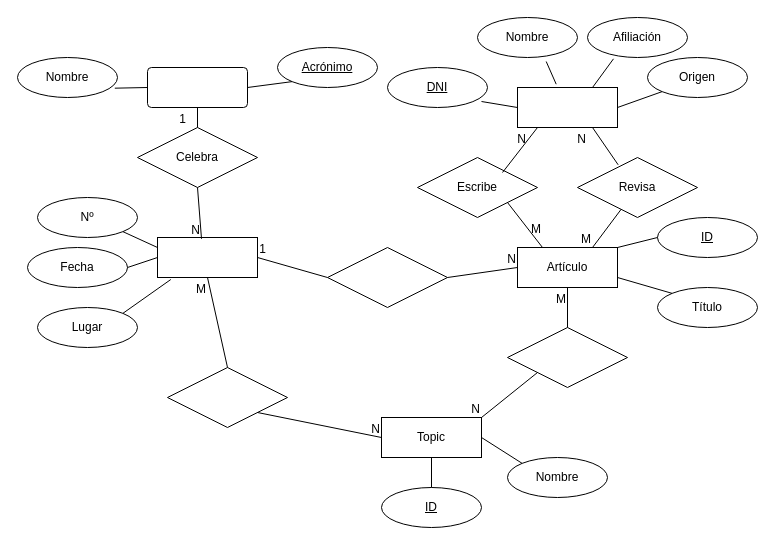
Image size: 775x545. Some labels were removed from this diagram. The centre of each missing label's shape, as x and y in pixels:
CFP: point (227, 397)
Conferencia: point (197, 87)
Evento: point (207, 257)
Persona: point (567, 107)
Presenta: point (387, 277)
Relevante: point (567, 357)
